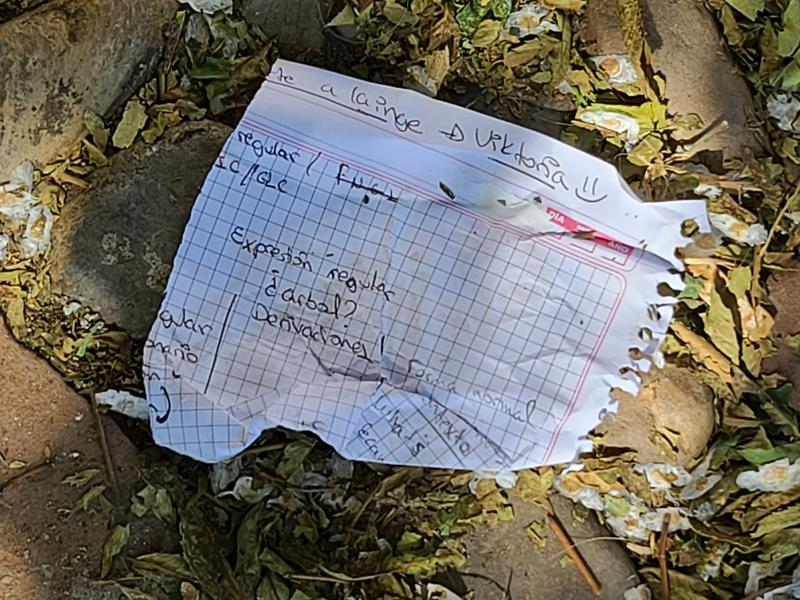papel: (140, 60, 701, 477)
